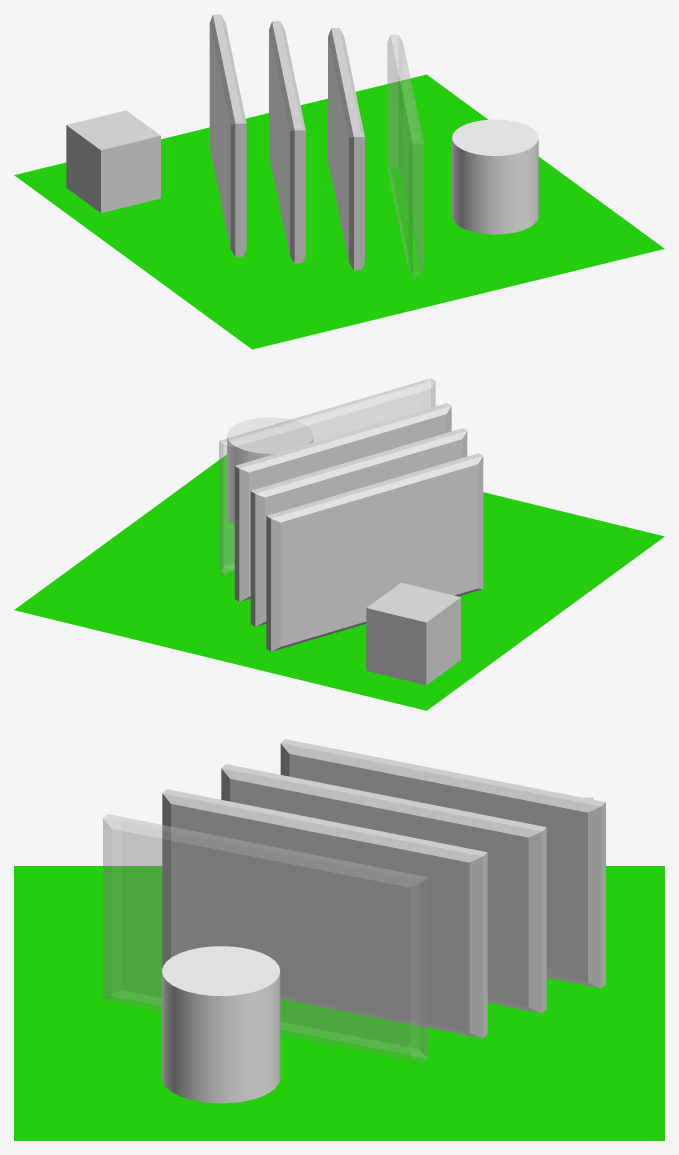
File: glass.glb
The picture shows the model from 3 angles, top to bottom: view 1: azimuth 30°, elevation 25°; view 2: azimuth 150°, elevation 25°; view 3: azimuth 270°, elevation 25°; orthographic projection. The views are drawn at different scales.
Visible parts, largest first — view 1: Plane, Cylinder, Cube, Cube.003, Cube.001, Cube.002, Cube.004; view 2: Plane, Cube.003, Cube.001, Cube.002, Cube.004, Cube, Cylinder; view 3: Plane, Cube.002, Cube.004, Cube.001, Cube.003, Cylinder.
Boxes of the visible parts, x1=… form: Plane: x1=14, y1=74, x2=664, y2=349; Cylinder: x1=452, y1=119, x2=538, y2=234; Cube: x1=66, y1=110, x2=160, y2=212; Cube.003: x1=209, y1=14, x2=246, y2=256; Cube.001: x1=269, y1=21, x2=305, y2=263; Cube.002: x1=328, y1=27, x2=364, y2=270; Cube.004: x1=387, y1=35, x2=423, y2=276; Plane: x1=14, y1=454, x2=664, y2=710; Cube.003: x1=266, y1=453, x2=483, y2=651; Cube.001: x1=250, y1=428, x2=467, y2=626; Cube.002: x1=234, y1=403, x2=451, y2=601; Cube.004: x1=219, y1=378, x2=435, y2=576; Cube: x1=366, y1=582, x2=460, y2=685; Cylinder: x1=227, y1=417, x2=313, y2=523; Plane: x1=14, y1=866, x2=664, y2=1140; Cube.002: x1=162, y1=789, x2=487, y2=1038; Cube.004: x1=103, y1=814, x2=427, y2=1062; Cube.001: x1=221, y1=764, x2=546, y2=1013; Cube.003: x1=280, y1=739, x2=605, y2=988; Cylinder: x1=162, y1=946, x2=280, y2=1103.
Size of the model in its own units: 11 by 3.4 by 11.
